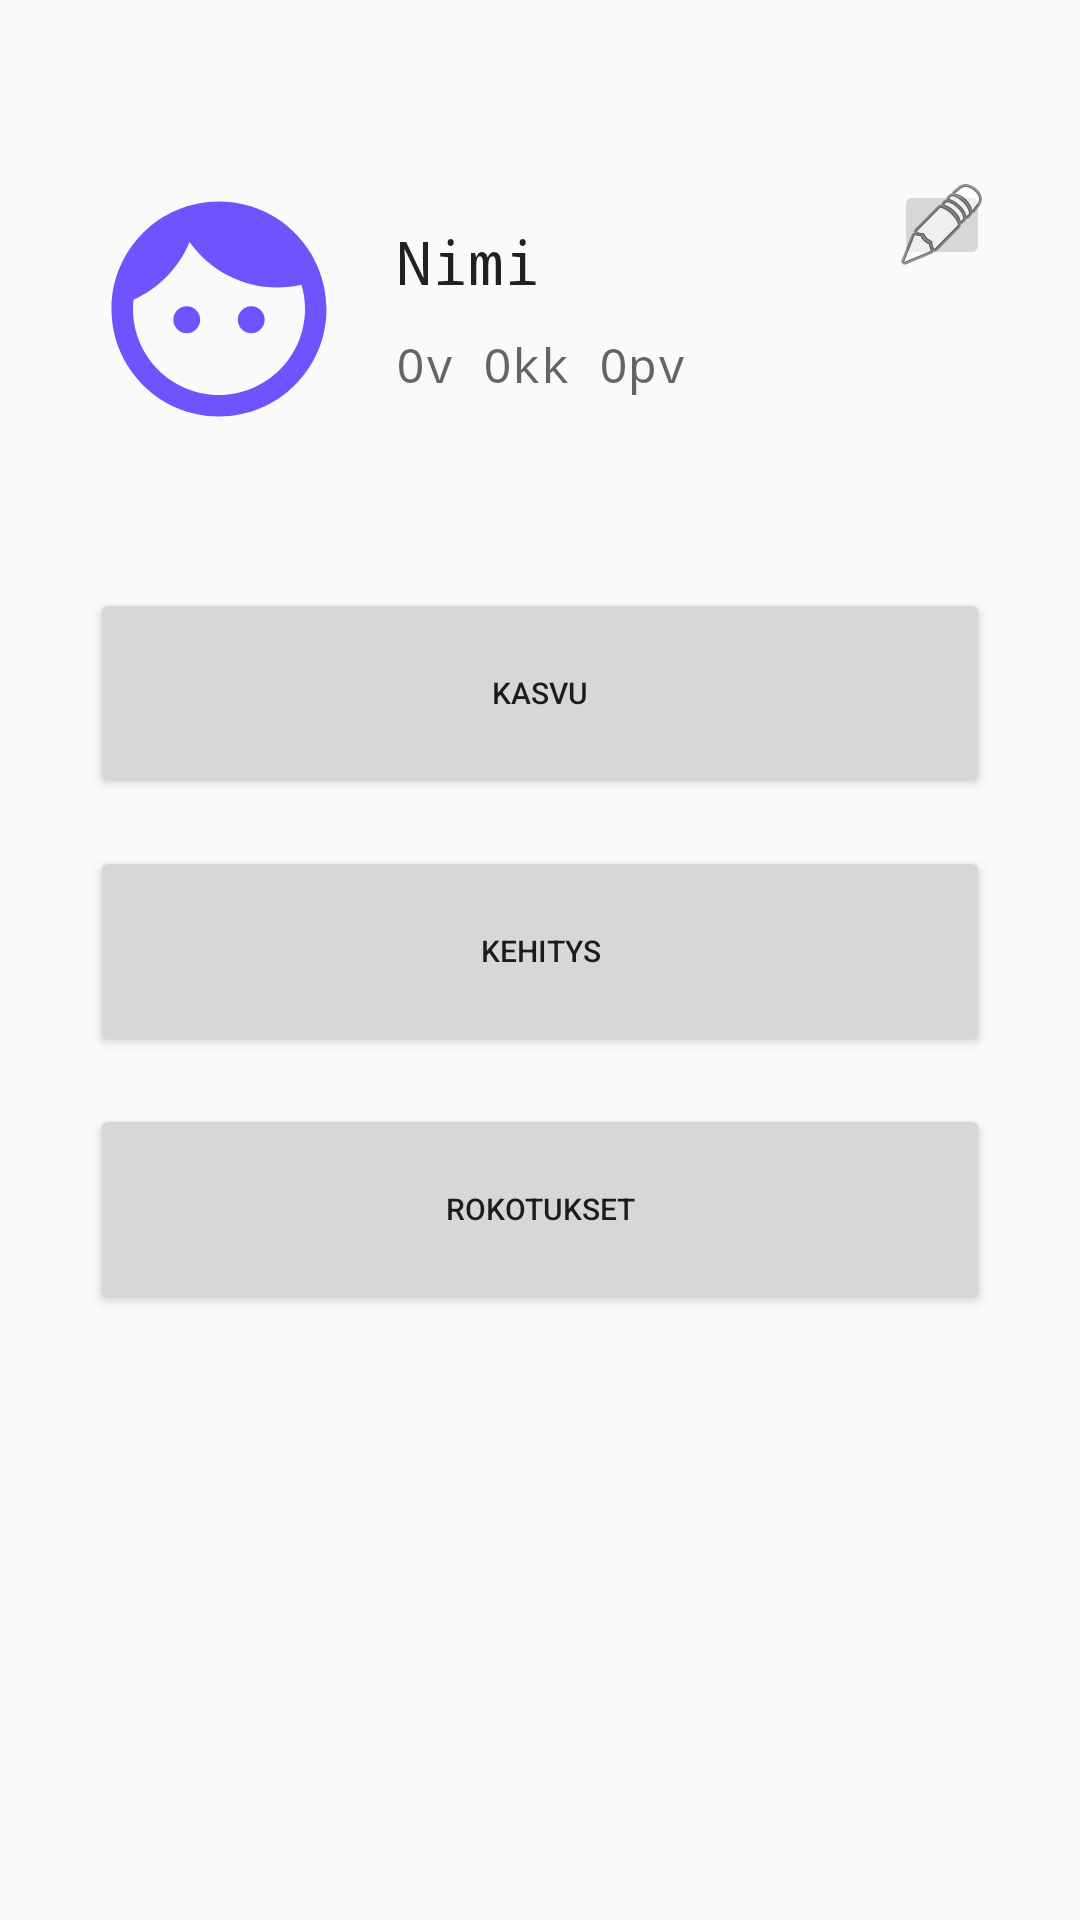

Screen size 1080px×1920px. Icon name, then its center in pixels as (x=x, y=y):
edit: (x=941, y=224)
face: (x=219, y=309)
